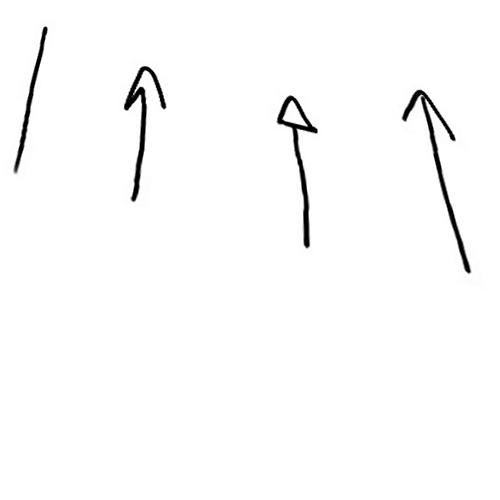arrow: (398, 91, 472, 269), (276, 90, 320, 251), (126, 66, 167, 200), (14, 24, 48, 173)
